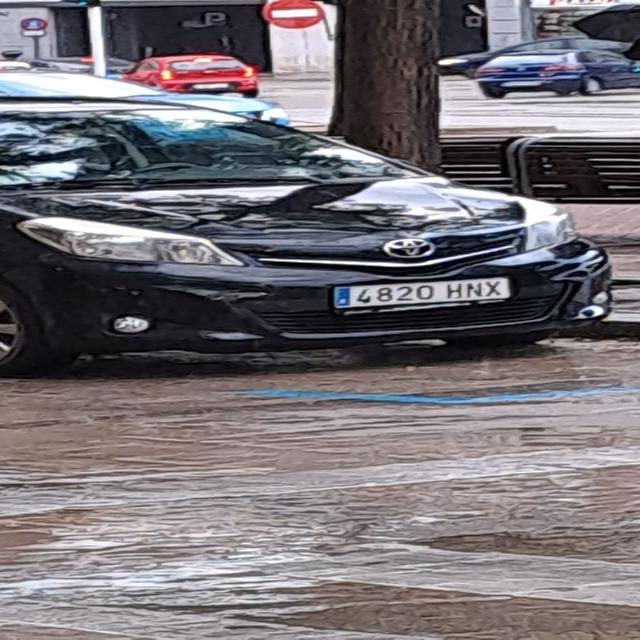license_plate-34Td: (334, 278, 510, 310)
